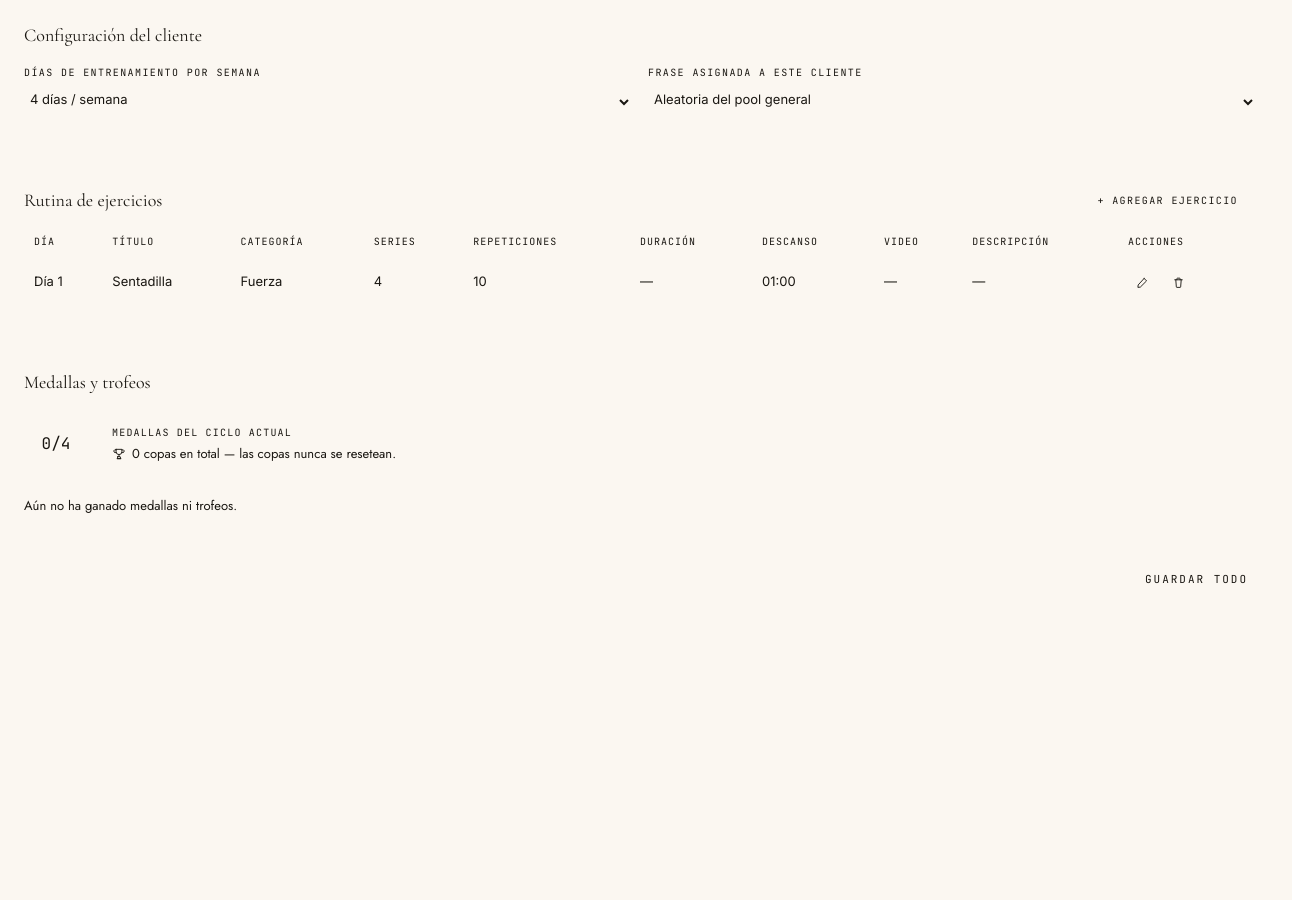
it: AdminTrainingPanel › video del ejercicio (YouTube o archivo) › keeps the YouTube link option available by default
The image size is (1292, 900).
Expected: the text "Sentadilla" is shown, top-left (102, 259), bottom-right (231, 305)
Click the button "+ Agregar ejercicio": point(1168, 200) top-left (1079, 182), bottom-right (1256, 218)
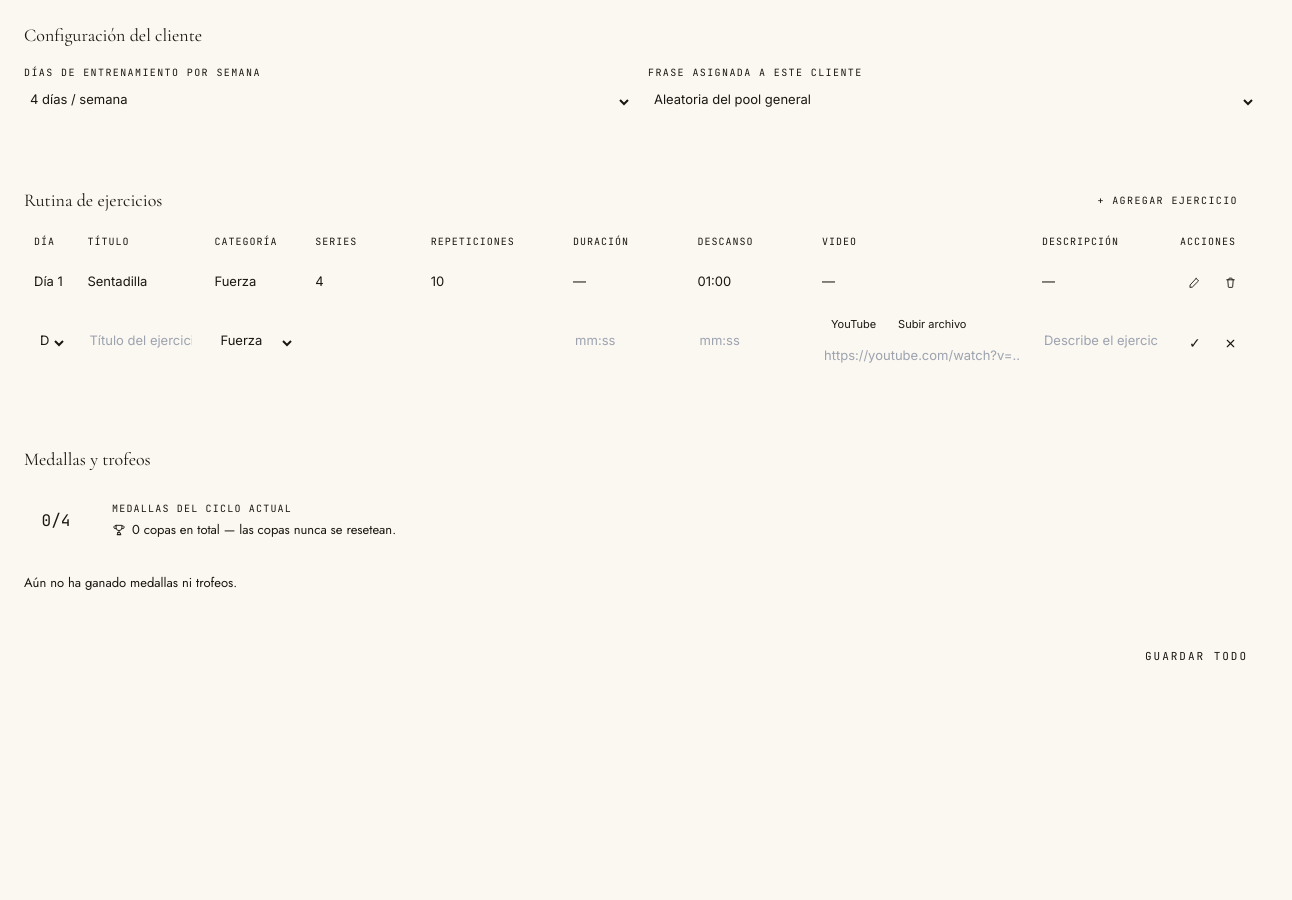
Expected: the field named "Link de YouTube" is shown, top-left (822, 342), bottom-right (1022, 374)
